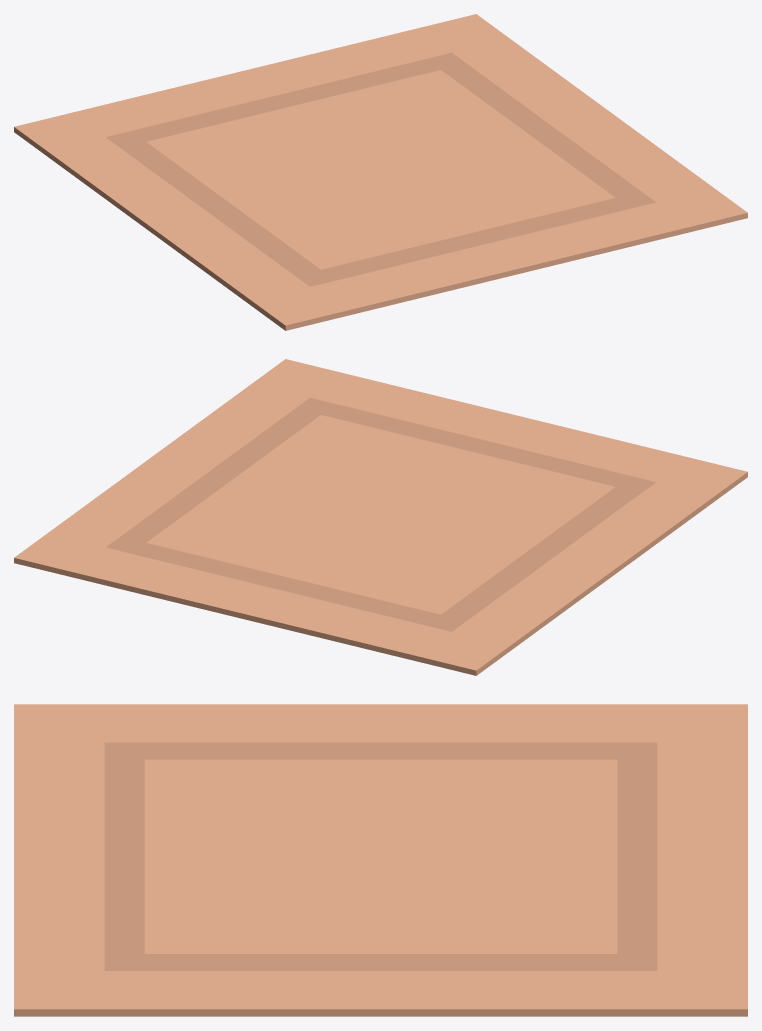
File: rug-square.glb
3 renders of one model, top to bottom at view 1: azimuth 30°, elevation 25°; view 2: azimuth 150°, elevation 25°; view 3: azimuth 270°, elevation 25°, orthographic. The views are drawn at different scales.
Visible parts, largest first — view 1: rugSquare; view 2: rugSquare; view 3: rugSquare.
Part boxes in pixels (bbox=[...]): rugSquare: bbox=[14, 14, 747, 330]; rugSquare: bbox=[14, 359, 747, 675]; rugSquare: bbox=[14, 704, 747, 1016].
Size of the model in its own units: 9.04 by 0.1 by 9.2.
